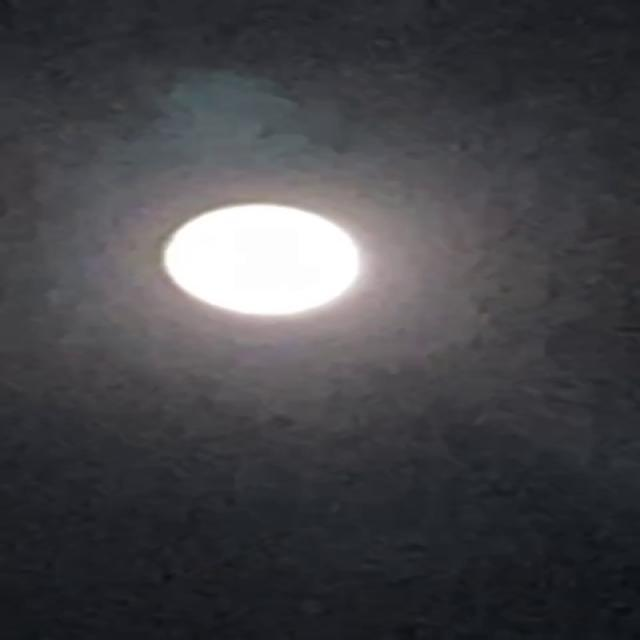moon: (156, 199, 383, 320)
